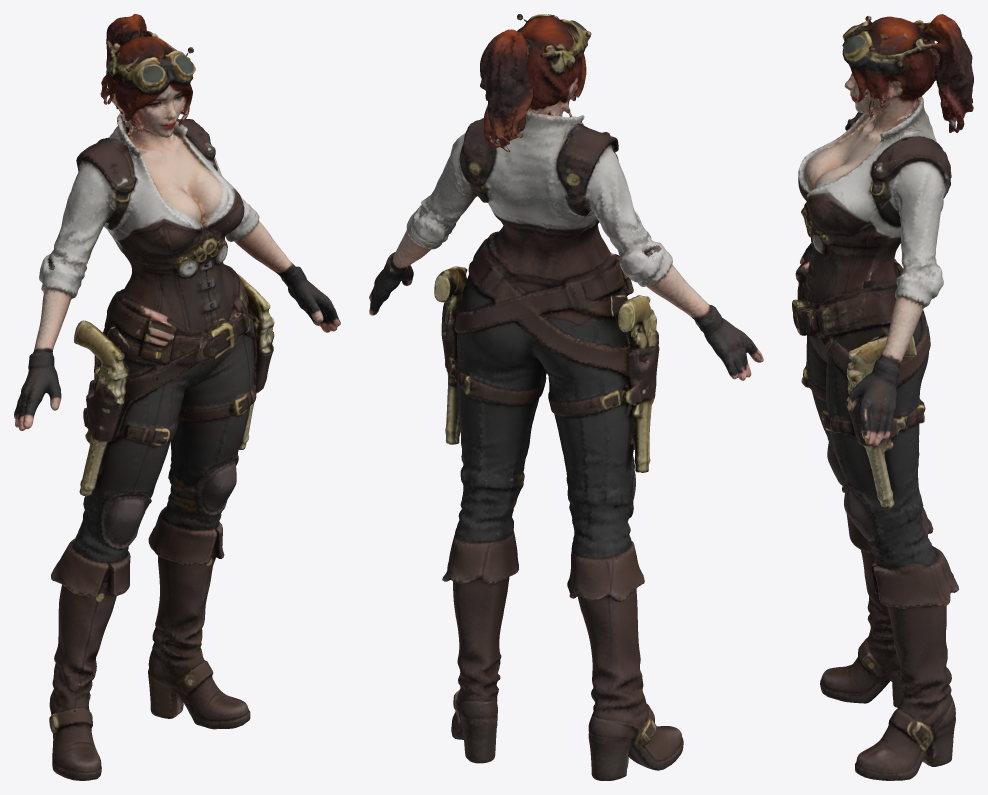
Rendered from Meshy_AI_Steampunk_Adventurer_0106070844_texture.fbx.
The picture shows the model from 3 angles, left to right: view 1: azimuth 30°, elevation 25°; view 2: azimuth 150°, elevation 25°; view 3: azimuth 270°, elevation 25°; orthographic projection. The views are drawn at different scales.
Visible parts, largest first — view 1: output; view 2: output; view 3: output.
Boxes of the visible parts, box(x1,y1,x2,y2) form: output: box(14, 14, 340, 780); output: box(369, 14, 763, 780); output: box(792, 14, 973, 780).
Bounding box in the file's own units: 98.76 × 191 × 43.48.
1 material, 1 textured.
